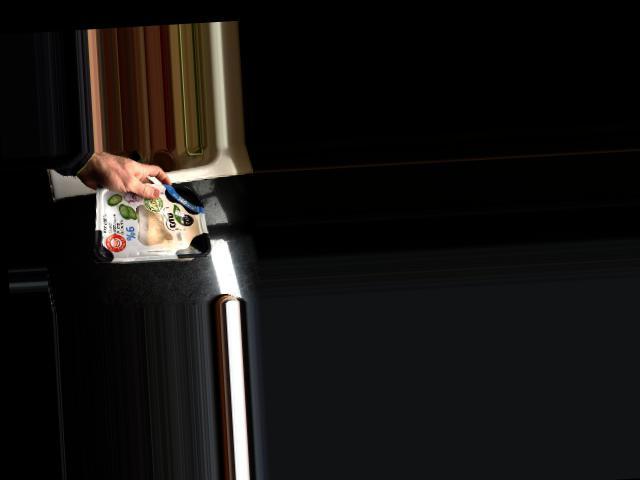cheese: (90, 172, 209, 263)
